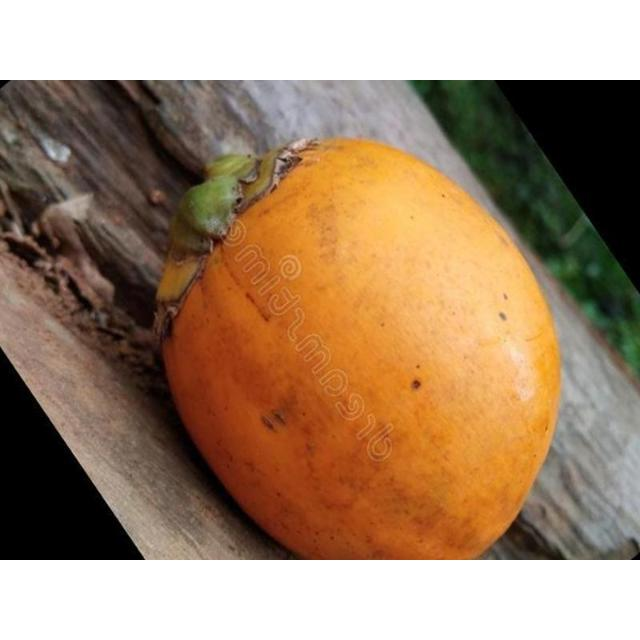good: (158, 138, 633, 559)
